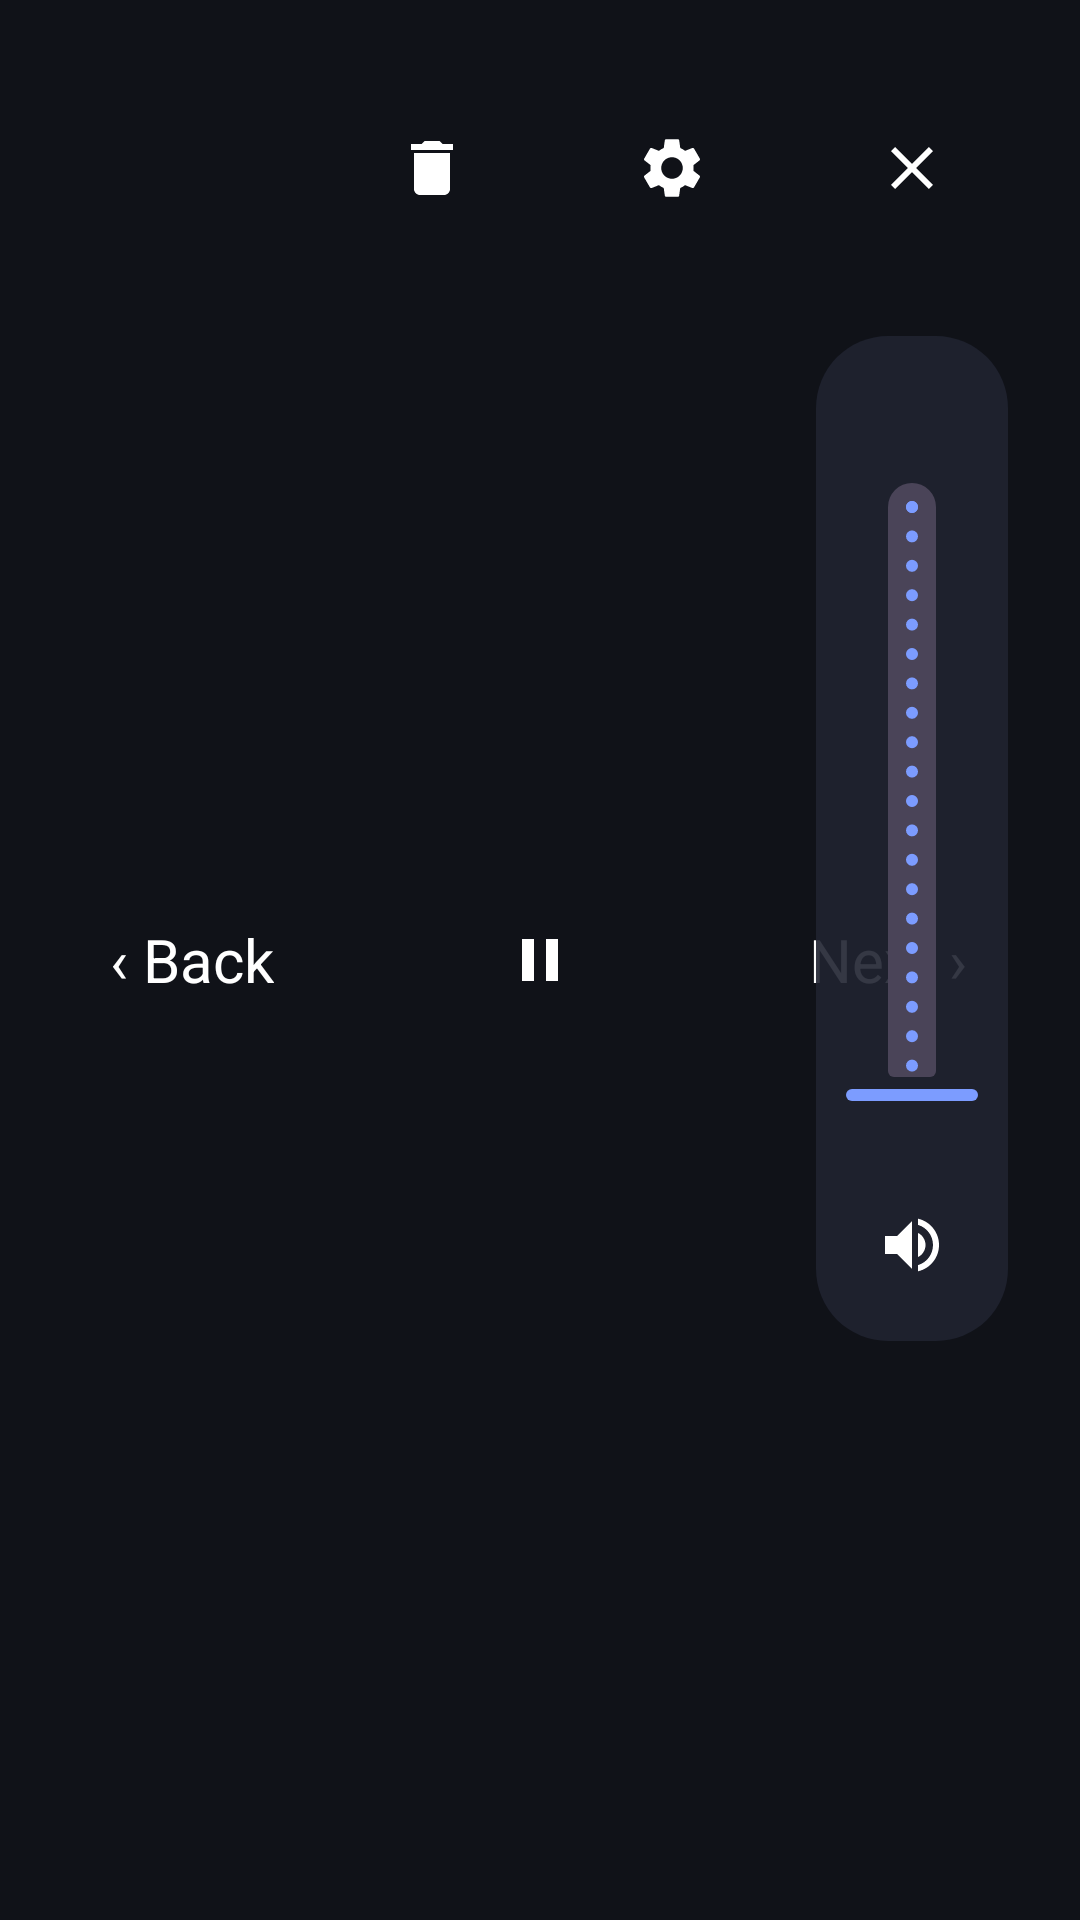

Icons on this 1080w x 1920h Android screen, each with its box as (x1,y1,x2,y2):
Close: (891,147,933,189)
Mute or unmute videos: (885,1218,939,1272)
Pause: (522,939,558,981)
Remove this item: (411,141,453,195)
